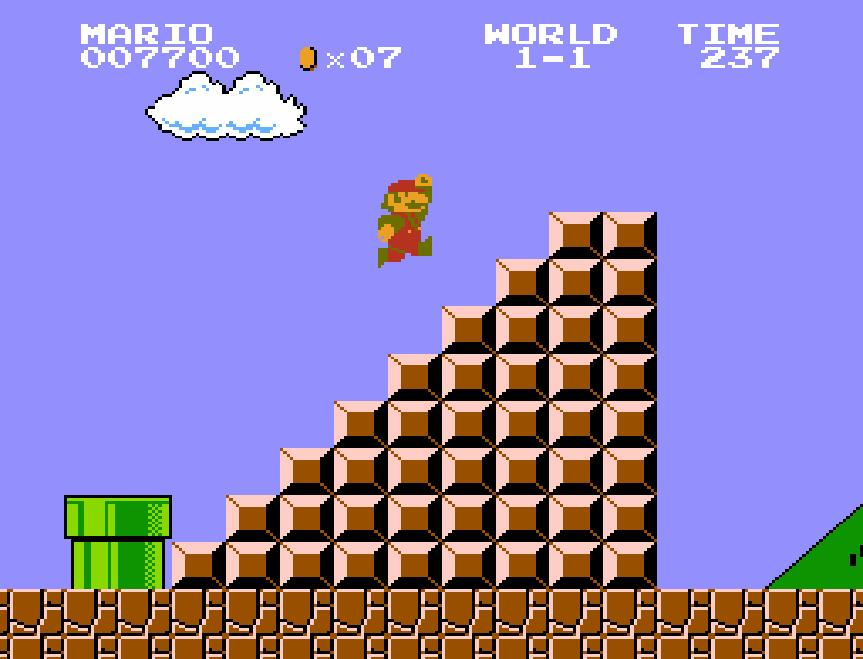big_mario: (376, 171, 434, 269)
